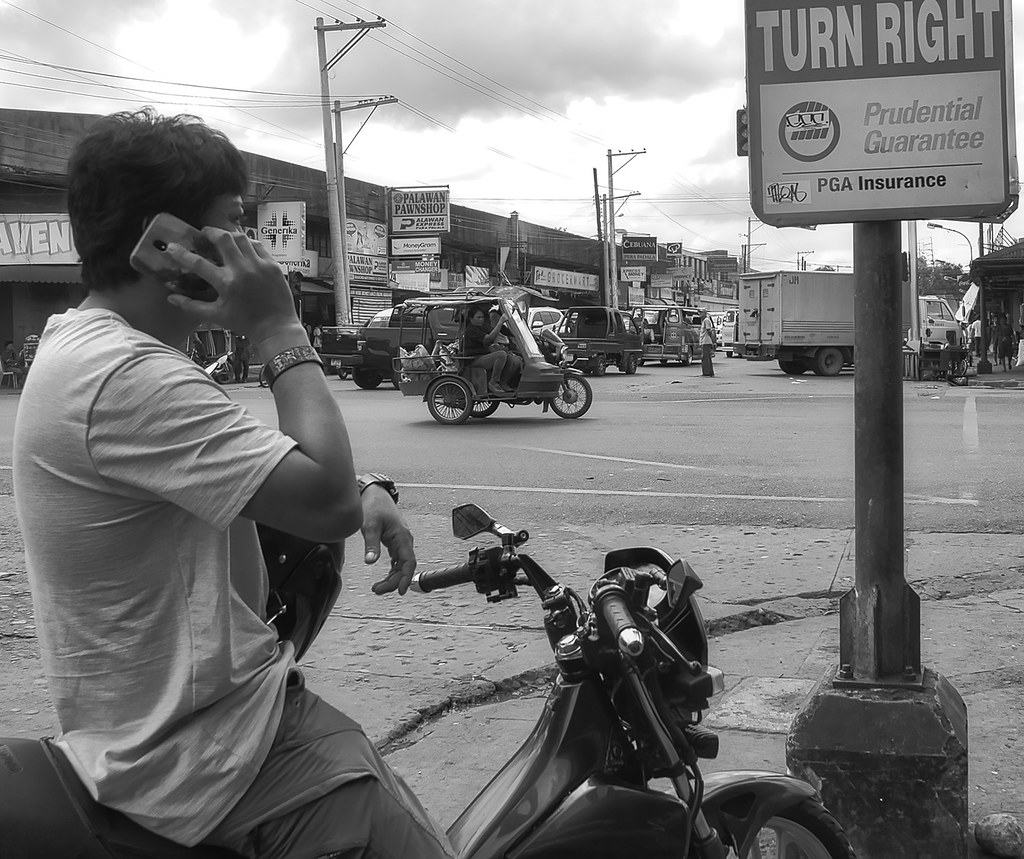phone: (137, 208, 278, 340)
talk: (125, 182, 313, 378)
